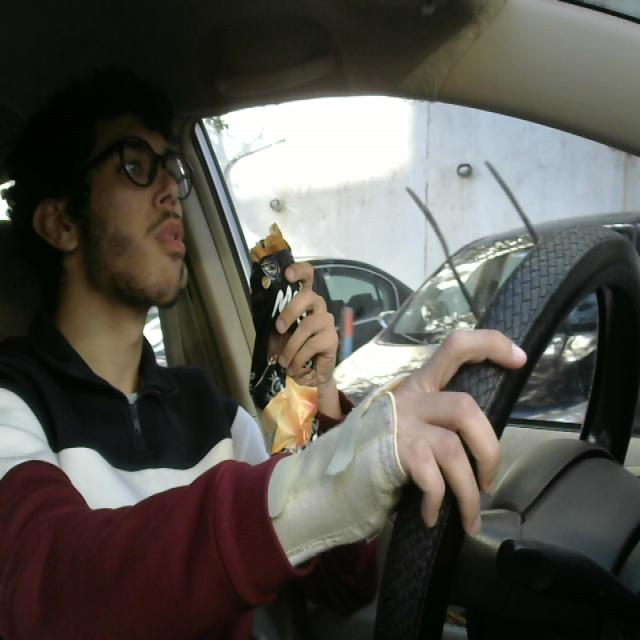eating: (243, 210, 322, 472)
